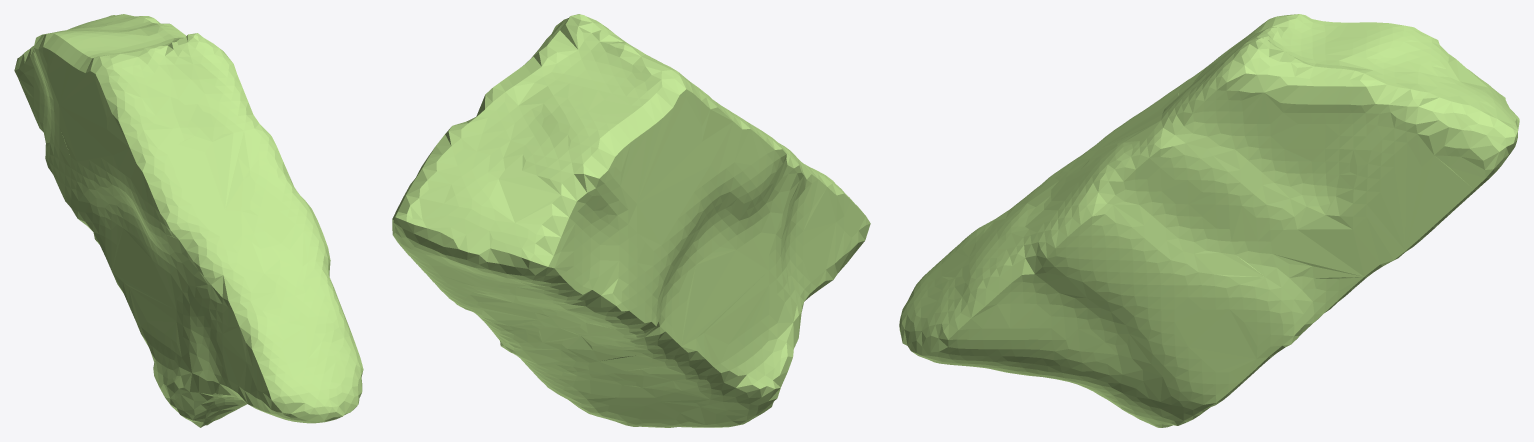
The model's file is Model_133_RH__Temporal_area_TF__occipital_part_(TFO).obj.
3 renders of one model, left to right at view 1: azimuth 30°, elevation 25°; view 2: azimuth 150°, elevation 25°; view 3: azimuth 270°, elevation 25°, orthographic. The views are drawn at different scales.
Bounding box in the file's own units: 1.31 × 3.12 × 4.53.
